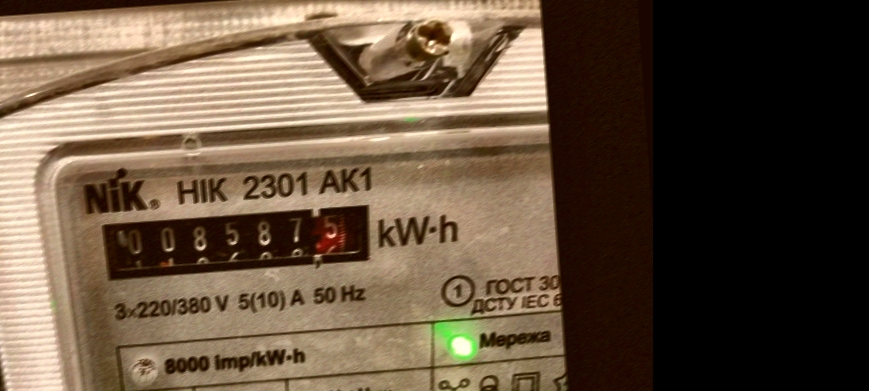0: (125, 227, 144, 257), (159, 225, 178, 254)
5: (323, 213, 342, 243), (223, 220, 242, 249)
7: (287, 214, 306, 245)
8: (255, 218, 274, 249), (191, 224, 209, 253)
screen: (84, 190, 391, 293)
